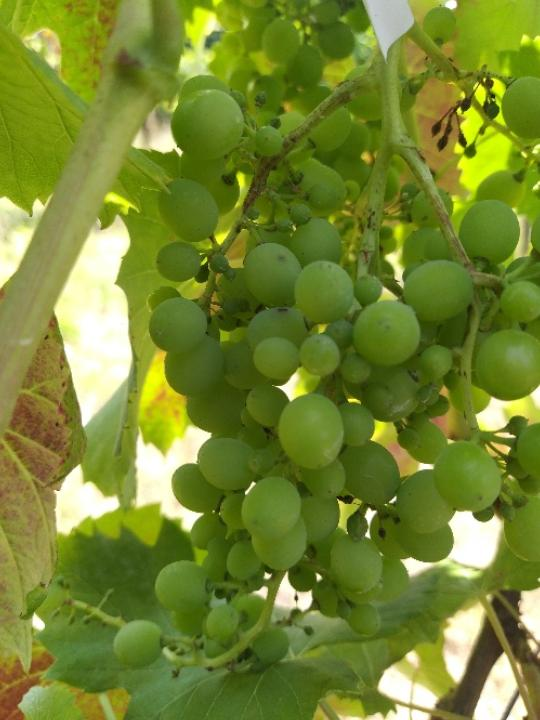grape: (107, 70, 540, 686)
